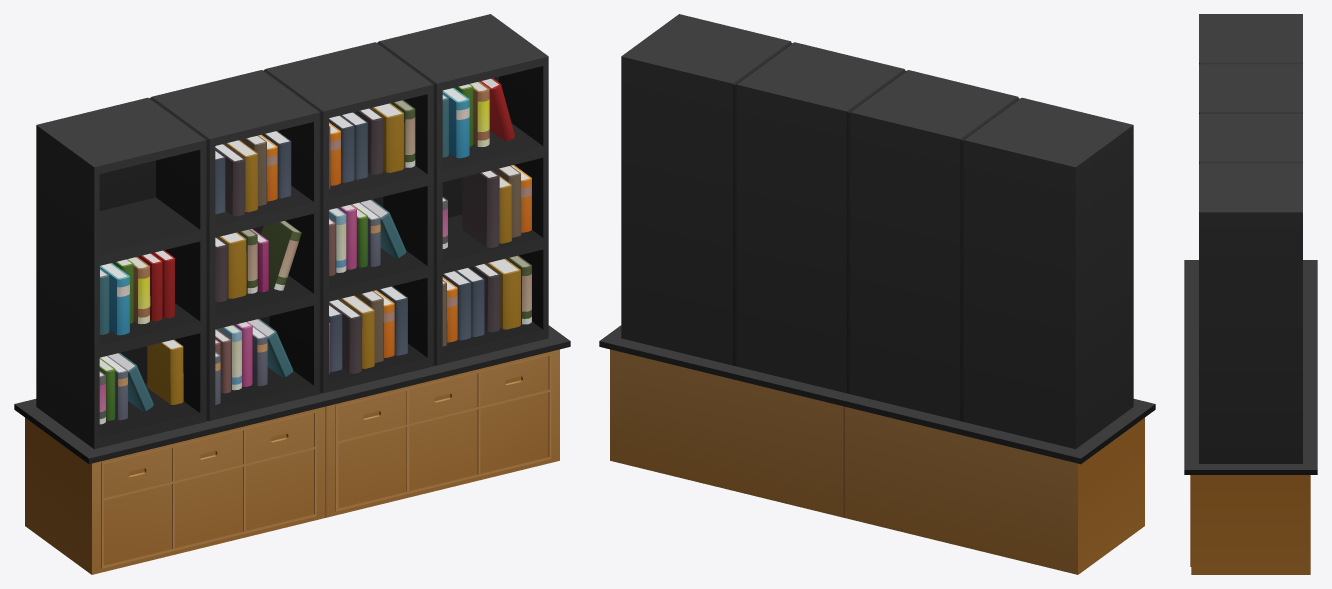
File: CR_sci_Table_004.FBX
The picture shows the model from 3 angles, left to right: view 1: azimuth 30°, elevation 25°; view 2: azimuth 150°, elevation 25°; view 3: azimuth 270°, elevation 25°; orthographic projection. The views are drawn at different scales.
Parts seen in each view (by area): view 1: CR_sci_Table_004; view 2: CR_sci_Table_004; view 3: CR_sci_Table_004.
Part boxes in pixels (x1,y1,x2,y2): CR_sci_Table_004: [14, 14, 570, 574]; CR_sci_Table_004: [599, 14, 1155, 574]; CR_sci_Table_004: [1184, 14, 1317, 574].
Size of the model in its own units: 223 by 178 by 59.74.
